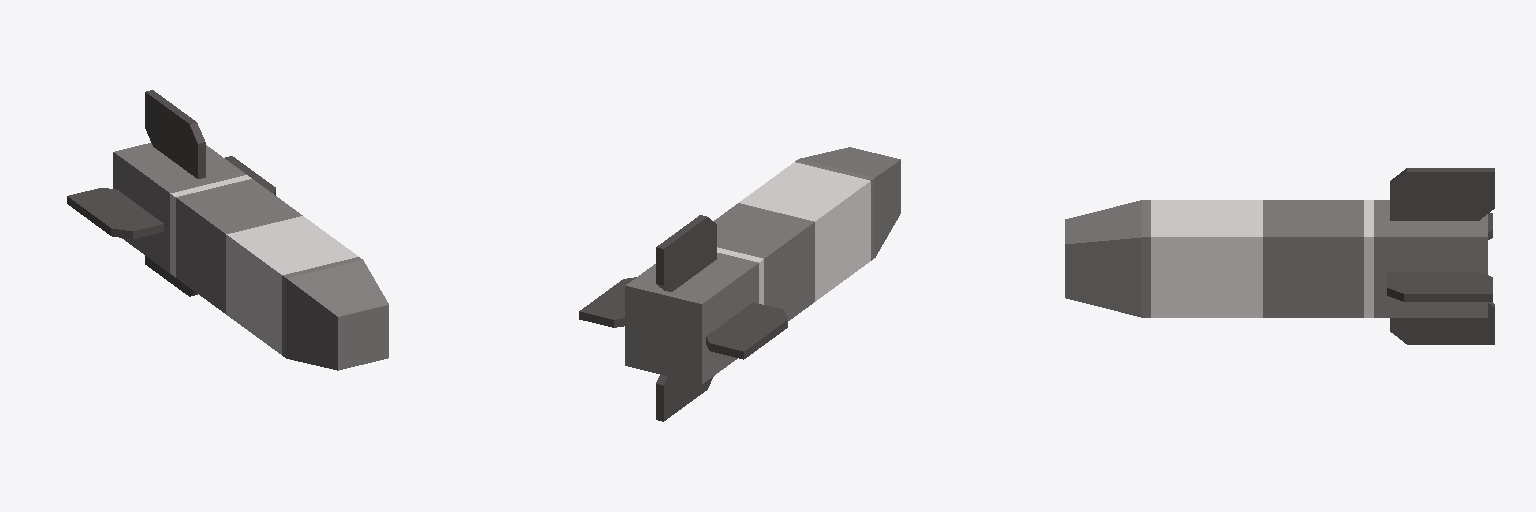
The picture shows the model from 3 angles: view 1: azimuth 30°, elevation 25°; view 2: azimuth 150°, elevation 25°; view 3: azimuth 270°, elevation 25°; orthographic projection.
Parts seen in each view (by area): view 1: Cube.002; view 2: Cube.002; view 3: Cube.002.
Part boxes in pixels (bbox=[...]): Cube.002: bbox=[67, 90, 388, 370]; Cube.002: bbox=[579, 147, 900, 421]; Cube.002: bbox=[1065, 168, 1494, 344].
Bounding box in the file's own units: 4.3 × 4.3 × 9.72.
1 materials, 1 textured.